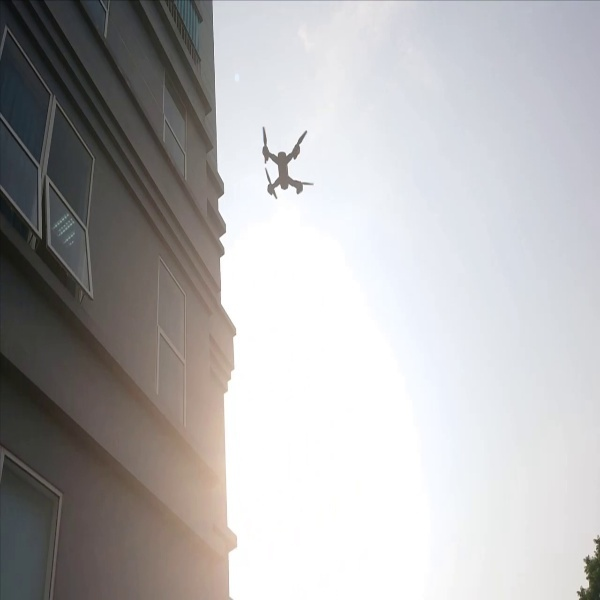drone: (251, 122, 319, 204)
